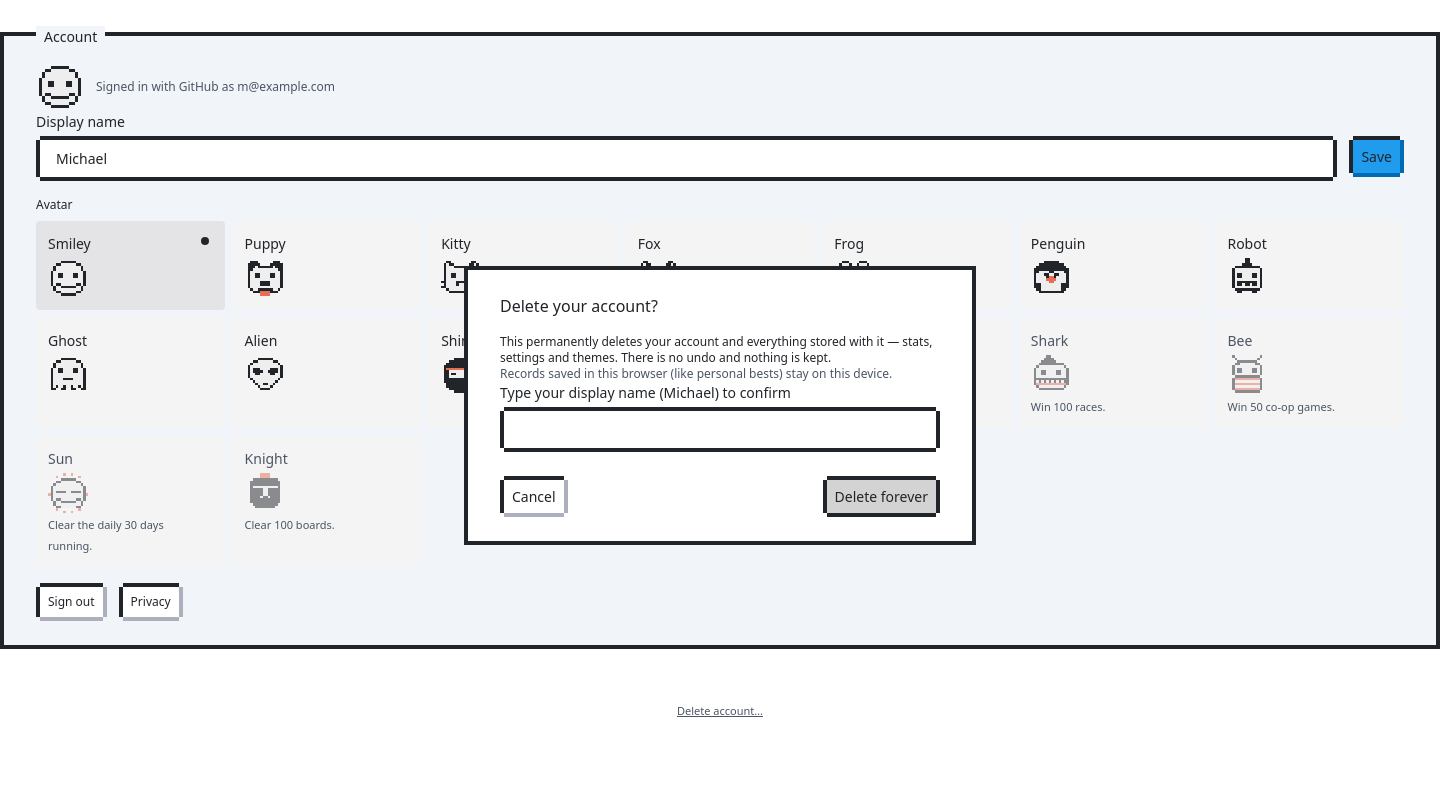
Test: deletion › keeps the session when deletion fails, and says why
Expected: the field named "Display name" is shown, [40, 140, 1333, 177]
Type "Michael" into the field named "Type your display name to confirm" at (720, 429), box [504, 410, 936, 448]
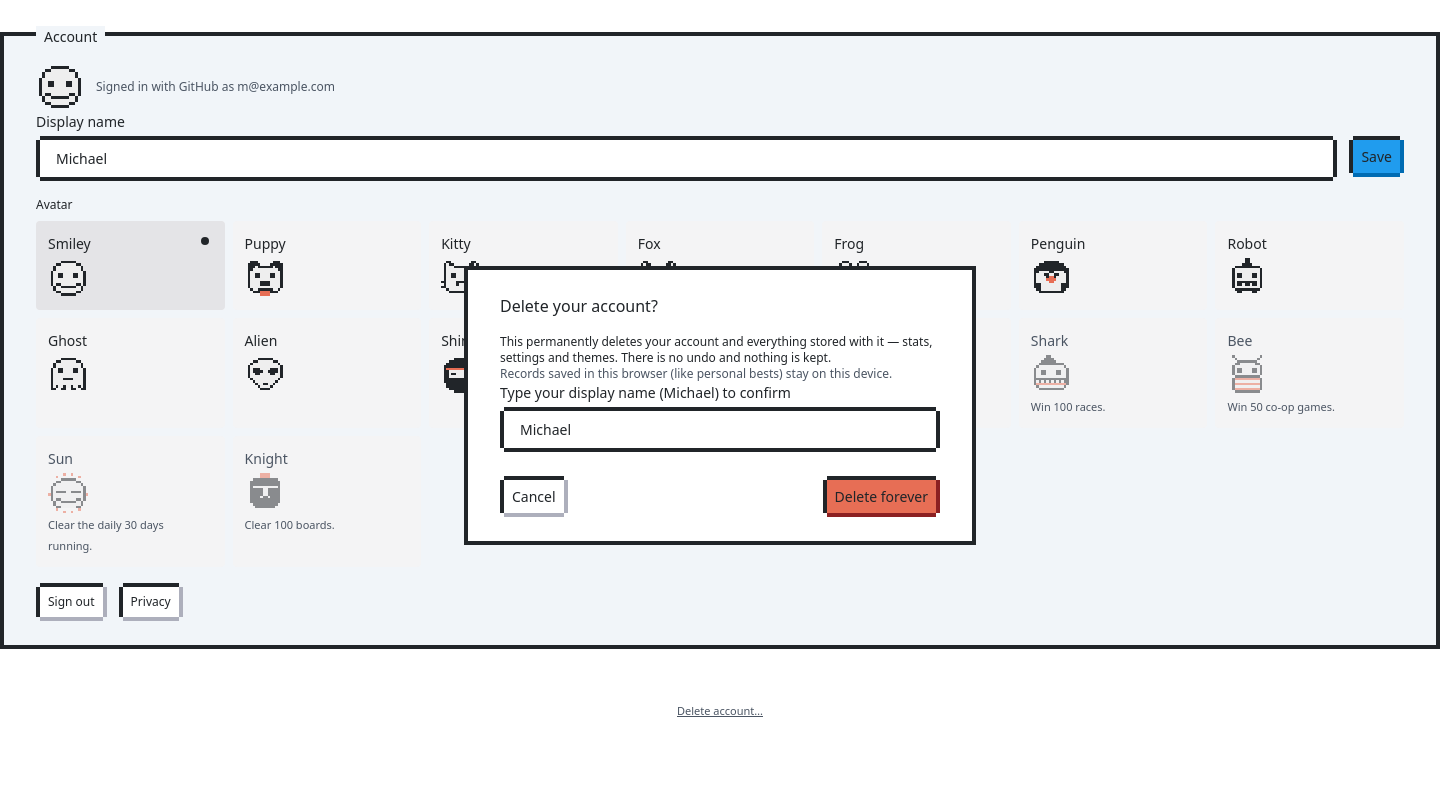
Click the button "Delete forever" at (881, 496), box [827, 480, 936, 512]
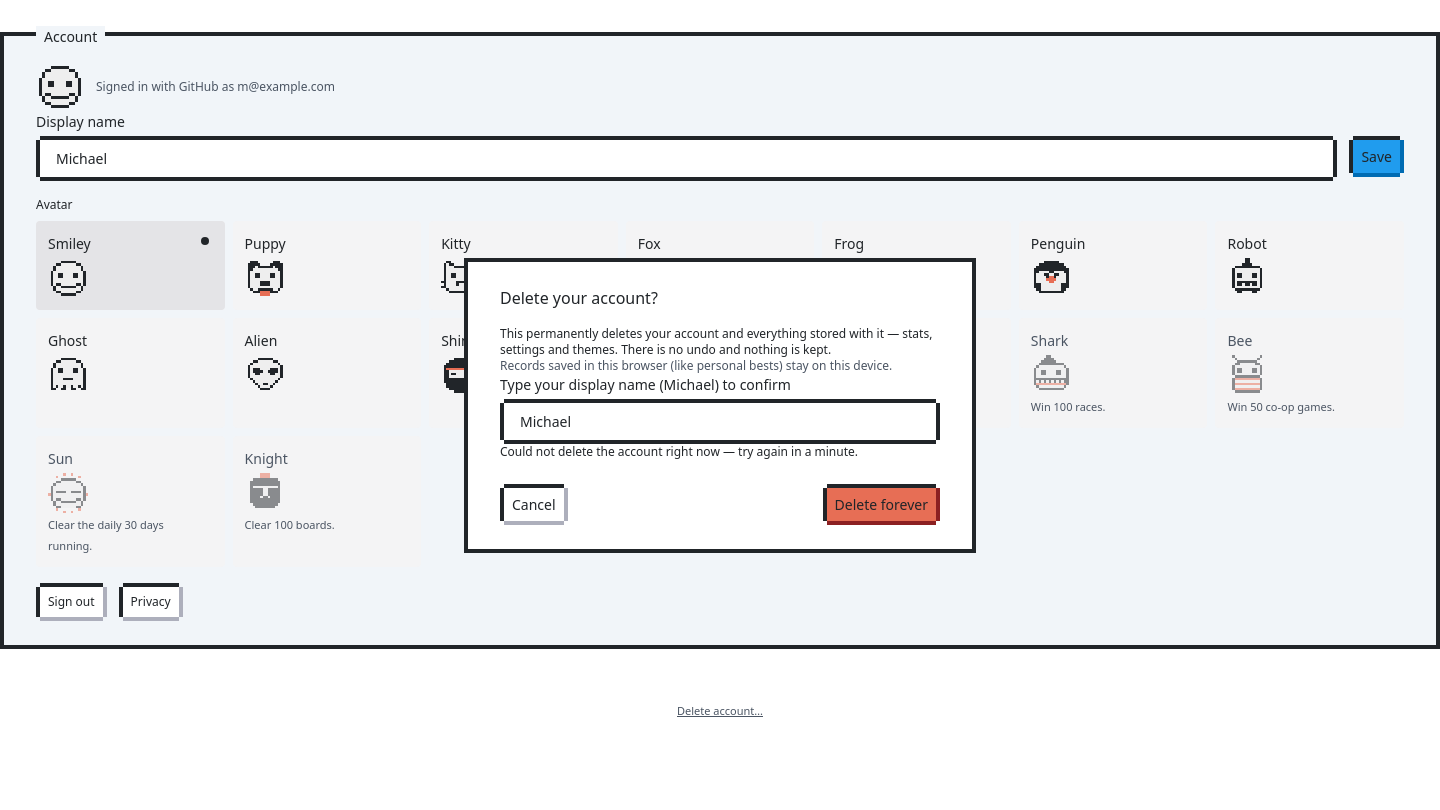
Expected: the message shows "Could not delete", [500, 442, 858, 460]
